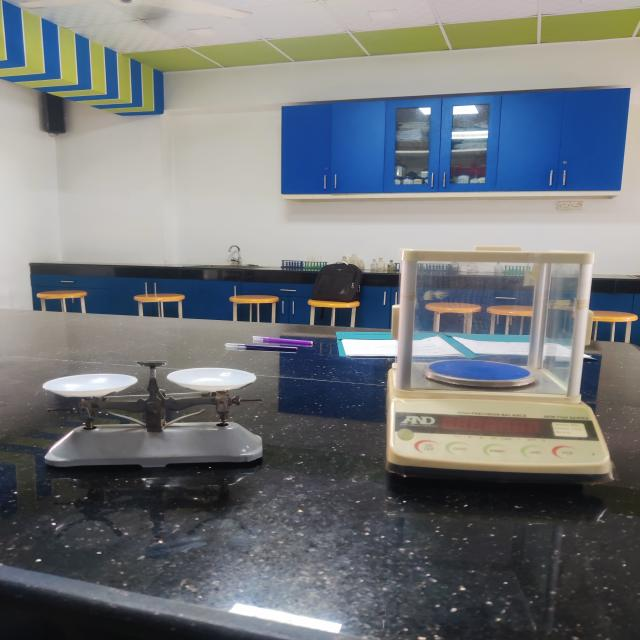Mechanical_Balance_Scale: (23, 354, 284, 480)
Precision_Weight_Scale: (368, 231, 632, 489)
